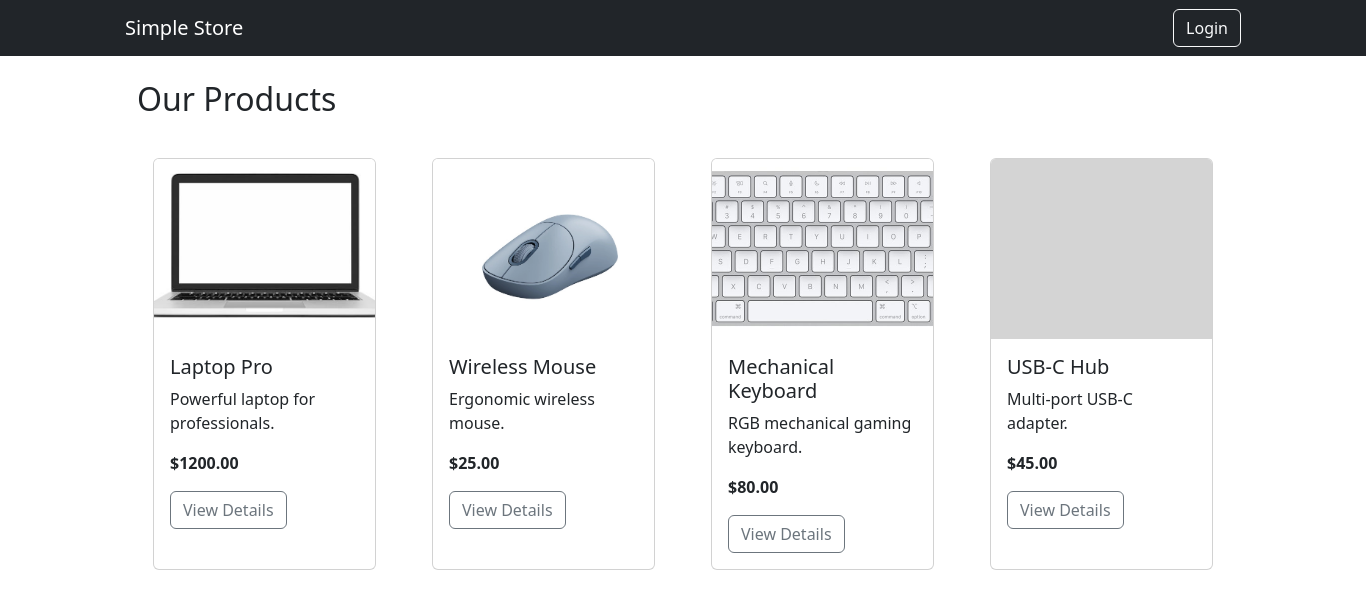
it: Product E2E Tests › should return from product details to the product list
Click the button "View Details" below "1200.00" at (229, 510), box [170,491,287,529]
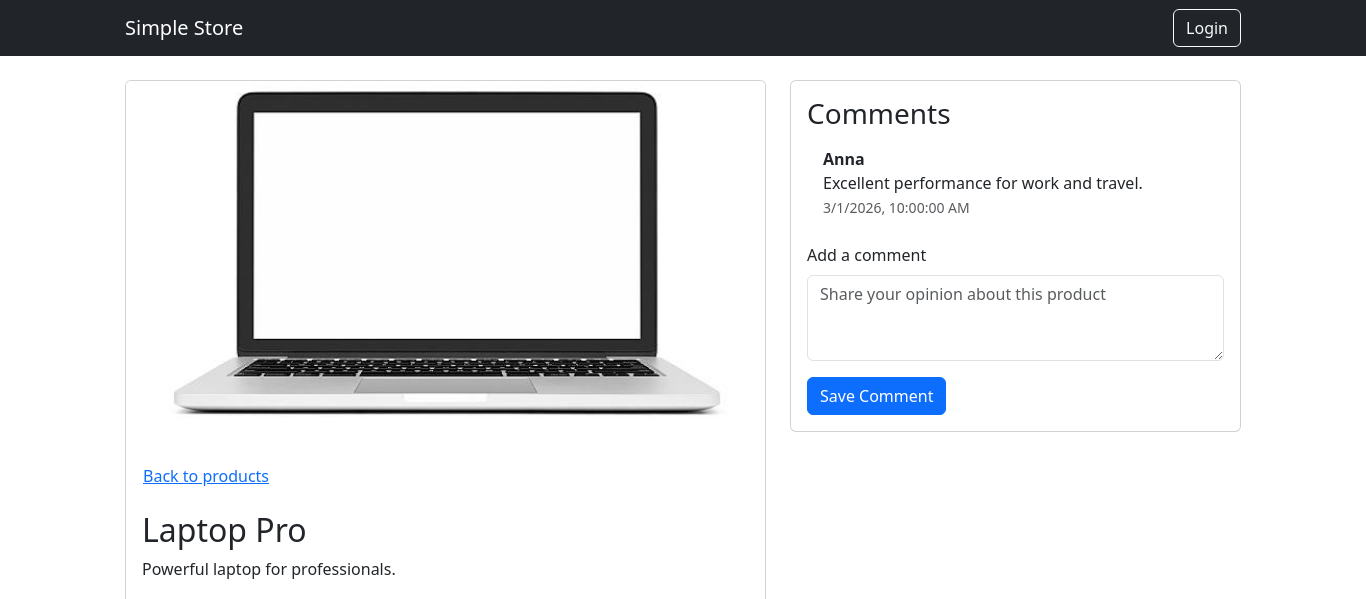
Click the button with test id "back-to-products" at (206, 476), box [142,457,270,495]
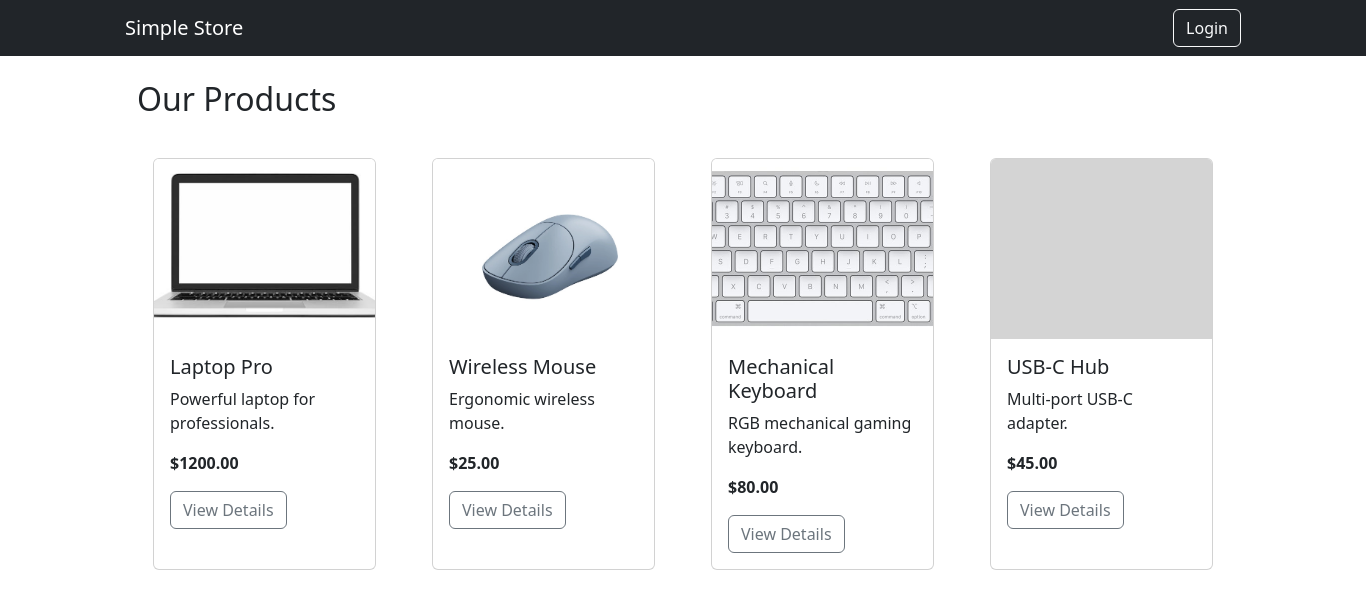
Now the heading "Our Products" is shown, box [137,77,336,120]
